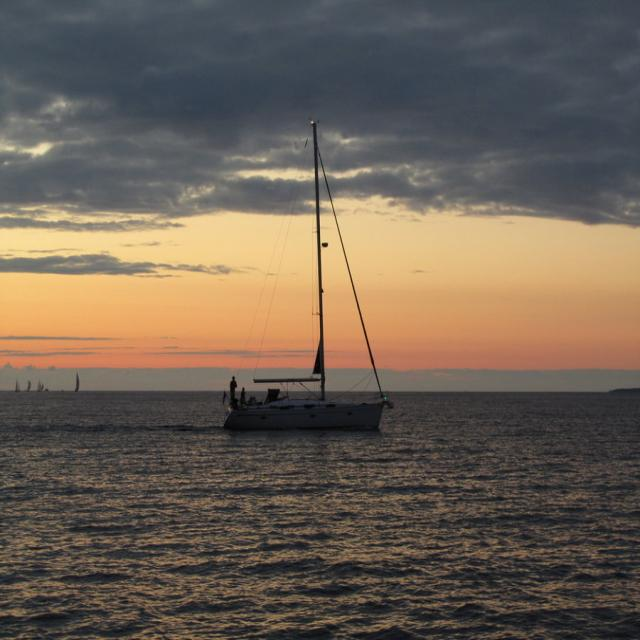Boat: (184, 139, 408, 494)
